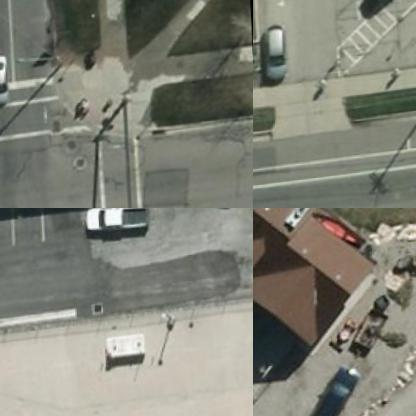car: (81, 208, 151, 247), (261, 28, 290, 82), (353, 0, 413, 25), (0, 59, 11, 114)
pickup: (297, 370, 366, 415)
